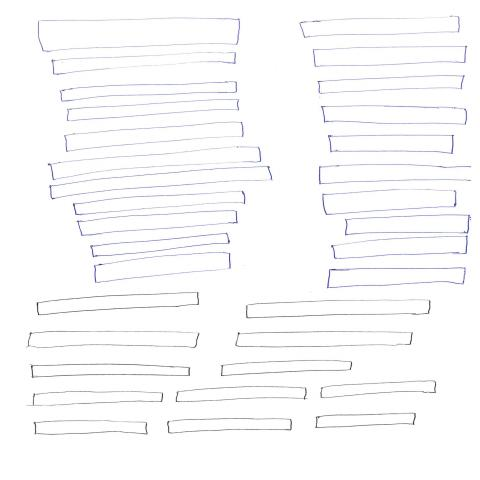Textbox: (64, 121, 246, 148), (50, 52, 238, 76), (65, 99, 241, 123), (37, 292, 201, 317), (244, 299, 432, 320), (298, 17, 461, 40), (60, 82, 238, 103), (312, 45, 469, 68), (322, 190, 459, 216), (330, 236, 469, 260), (326, 267, 467, 290), (234, 331, 414, 349), (321, 104, 468, 126), (318, 75, 467, 96), (26, 332, 200, 349), (344, 215, 472, 238), (327, 134, 456, 154), (30, 364, 192, 379), (174, 386, 308, 404), (320, 380, 439, 400), (220, 361, 354, 378), (31, 392, 165, 408), (167, 419, 294, 435), (34, 421, 149, 437), (315, 413, 417, 430)
